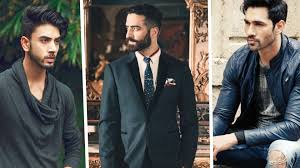Indian_Male: (116, 13, 164, 52)
